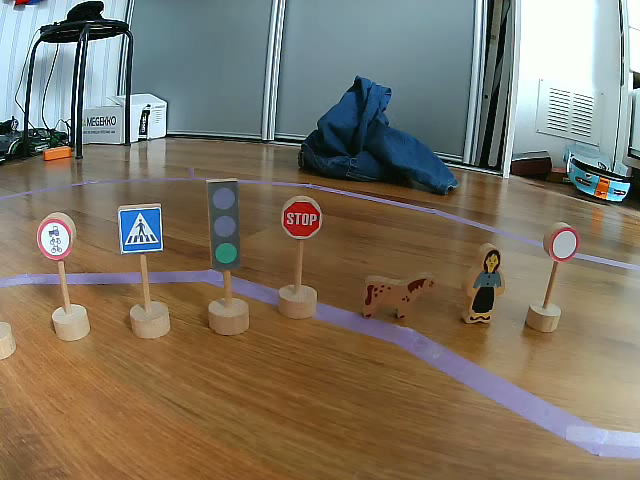fietspad: (37, 217, 71, 263)
groenlicht: (206, 179, 241, 269)
mens: (457, 244, 506, 325)
paard: (359, 272, 437, 322)
stopbord: (281, 198, 322, 237)
wegdicht: (547, 228, 579, 264)
zebrapad: (119, 204, 162, 254)
